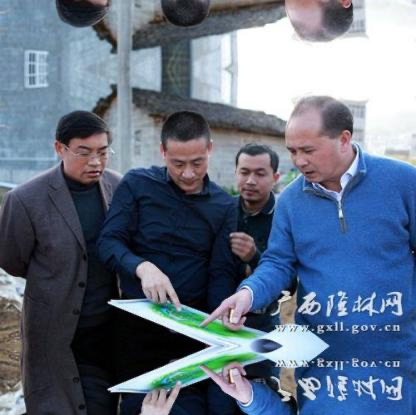No Safety Helmet: (281, 91, 364, 188), (51, 106, 115, 194), (156, 105, 215, 197), (230, 134, 283, 209)
